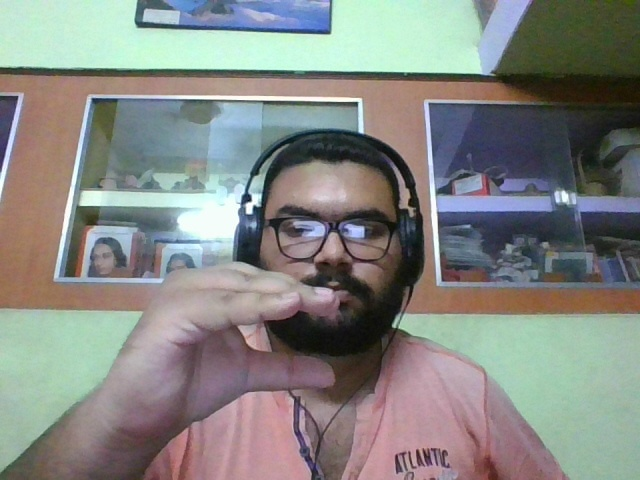no: (101, 259, 337, 431)
